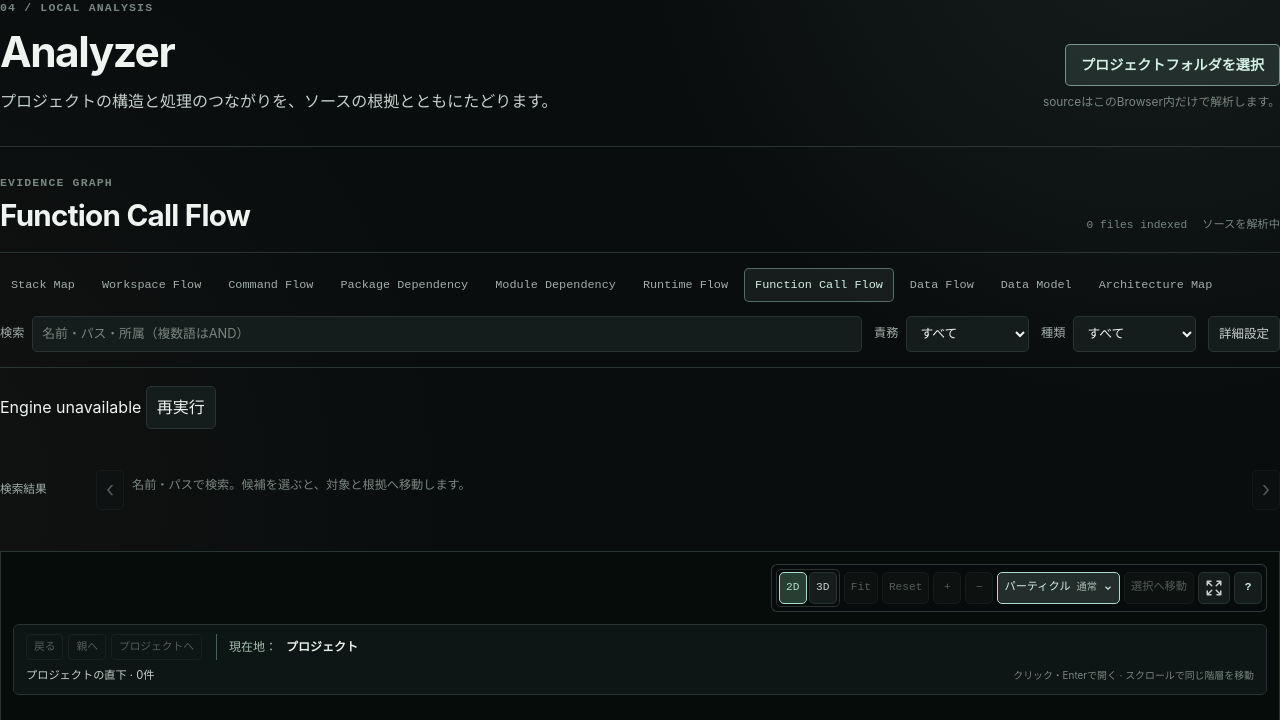
Scenario: semantic Analyzer exploration › shows a recoverable engine error and retries
The image size is (1280, 720).
Expected: the message "Engine unavailable 再実行" is shown, [0,386,216,429]
Click the button "再実行".
click(181, 407)  # box [146,386,216,429]
(page scrolled)
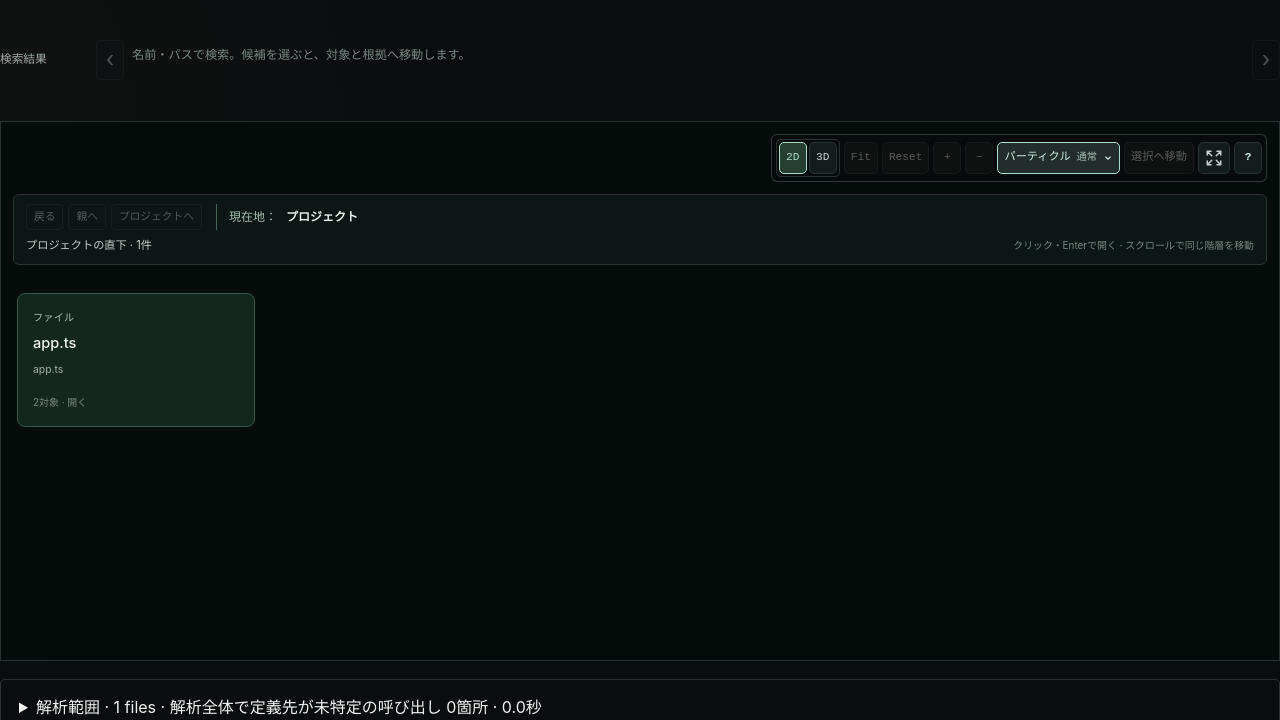
Result: the message "Engine unavailable 再実行" is gone
Click the button with class "semantic-explorer-block".
click(136, 360)  # box [17,293,255,427]
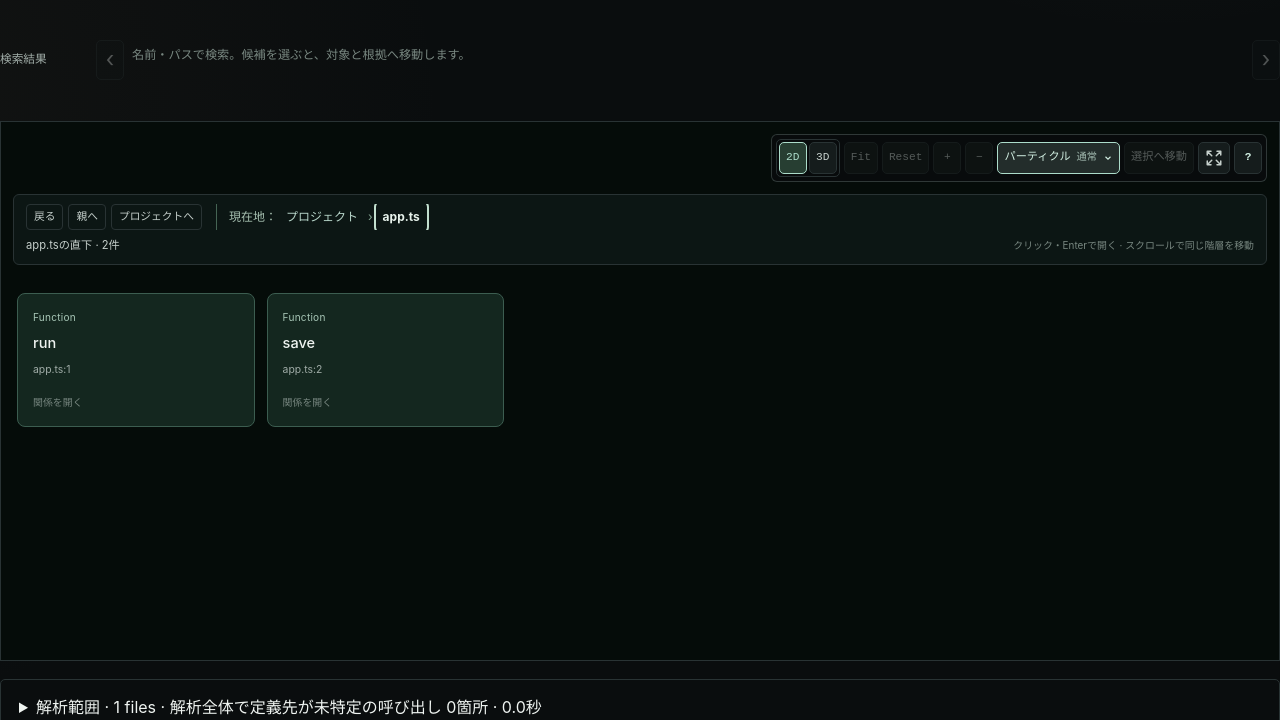
Result: the button "Function run app.ts:1 関係を開く" is shown at [17,293,255,427]
